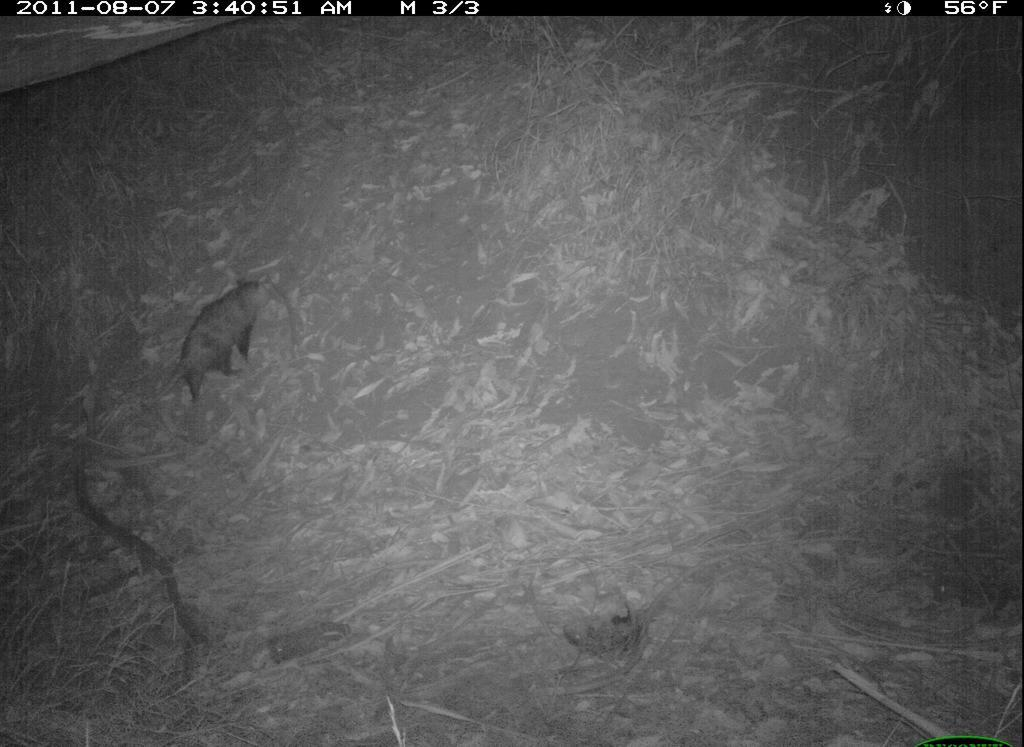opossum: (158, 257, 289, 410)
